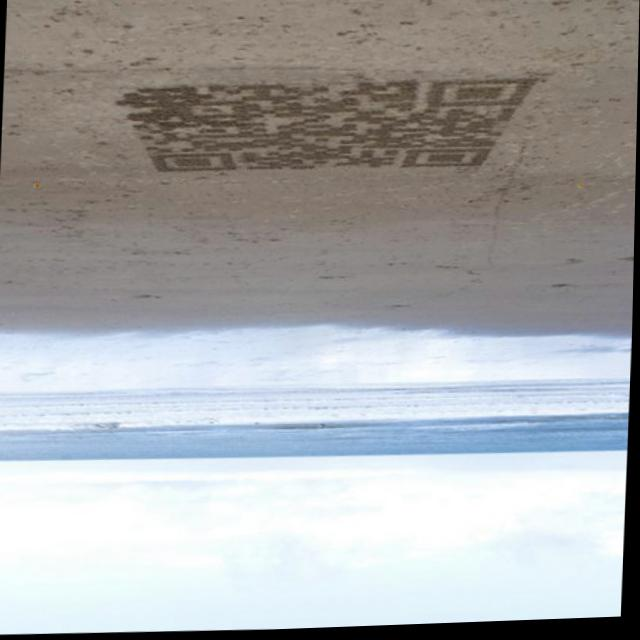qrcode: (117, 77, 538, 180)
